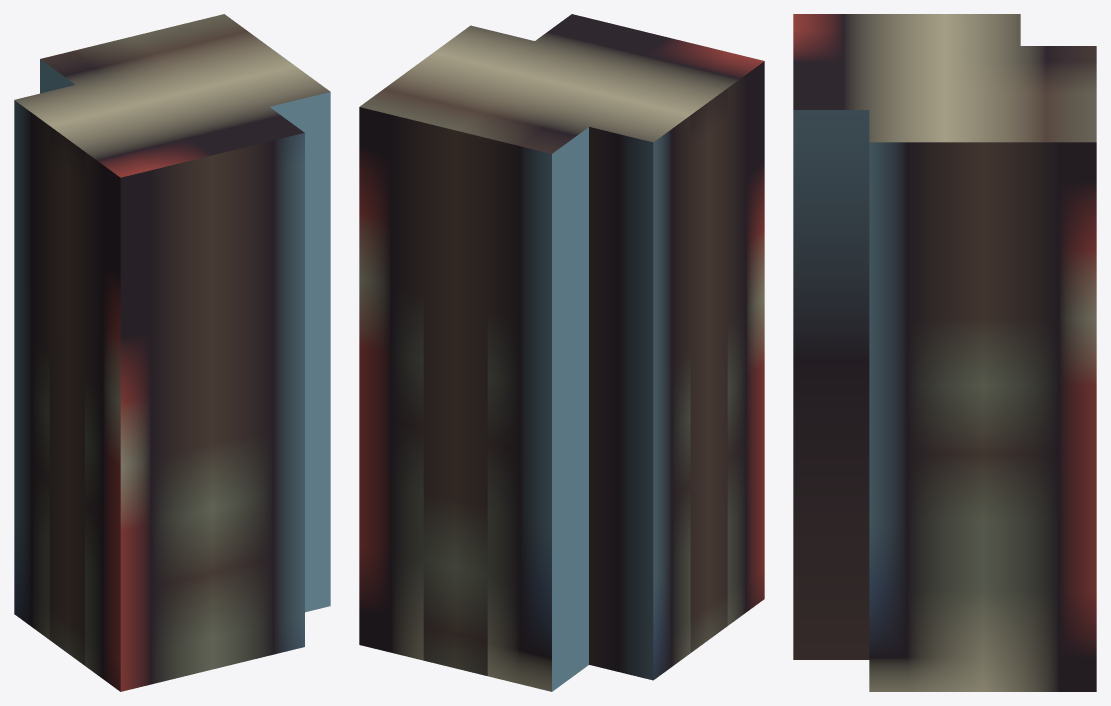
File: casa1_cantonada_mig.fbx
3 renders of one model, left to right at view 1: azimuth 30°, elevation 25°; view 2: azimuth 150°, elevation 25°; view 3: azimuth 270°, elevation 25°, orthographic. The views are drawn at different scales.
Parts seen in each view (by area): view 1: Wall1.010; view 2: Wall1.010; view 3: Wall1.010.
Boxes of the visible parts, left/top/right/bottom form: Wall1.010: left=14, top=14, right=330, bottom=691; Wall1.010: left=359, top=14, right=764, bottom=691; Wall1.010: left=793, top=14, right=1096, bottom=691.
Size of the model in its own units: 100 by 200 by 100.
